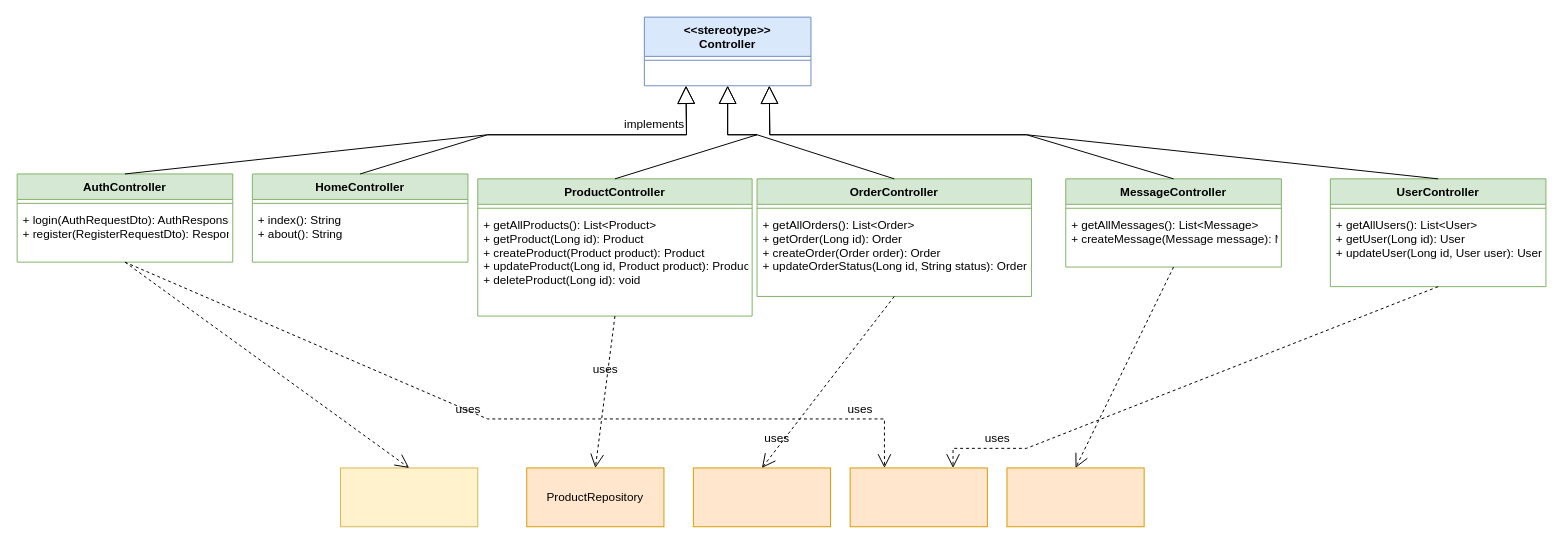
Some shapes in this 1563 by 544 pixel diagram are drawn without their labels. The shapes that lost their labels are listed below. From the top down, each one's centre as x and y in pixels, then its label:
At (x=409, y=497): "JwtUtil".
At (x=761, y=497): "OrderRepository".
At (x=918, y=497): "UserRepository".
At (x=1075, y=497): "MessageRepository".
